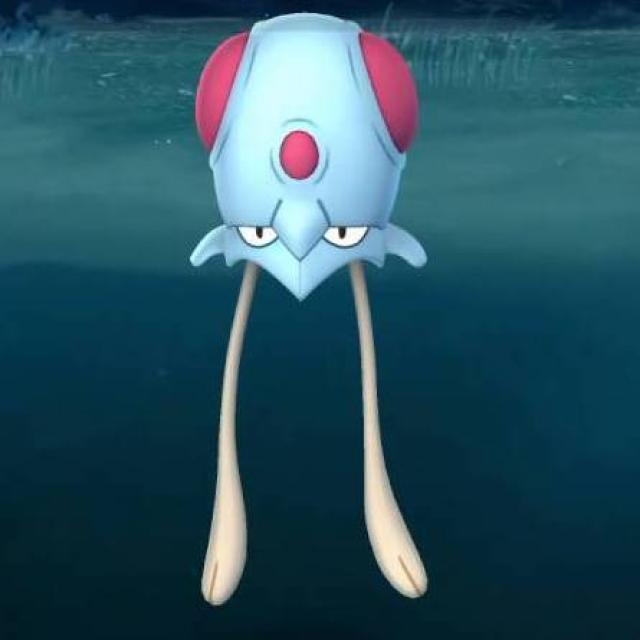Tentacool: (178, 11, 428, 430)
